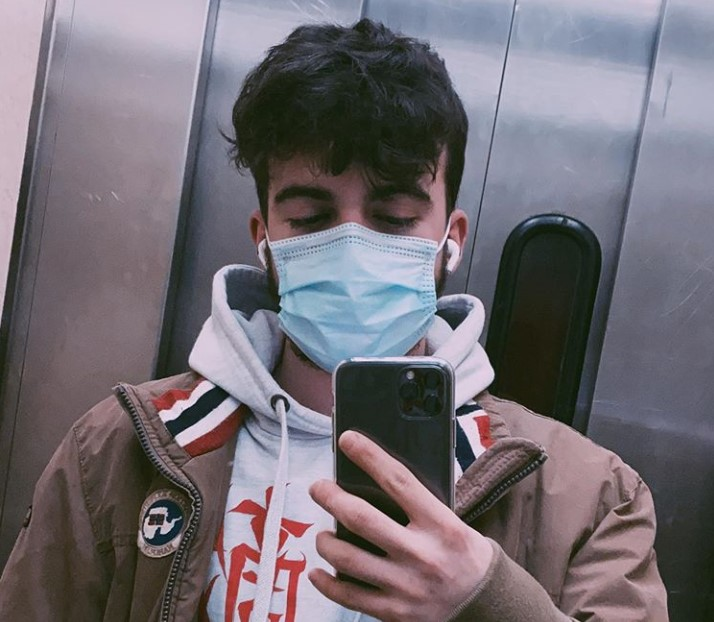face_with_mask: (238, 33, 469, 374)
